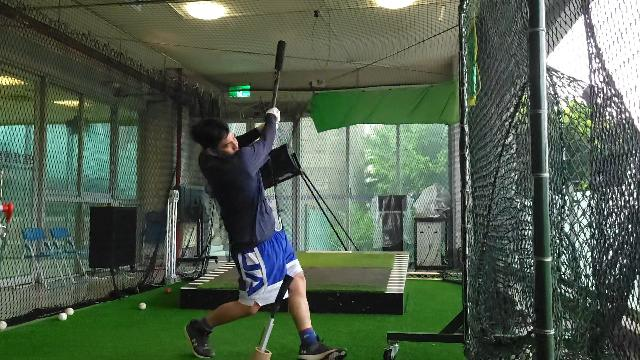bat: (269, 38, 287, 109)
